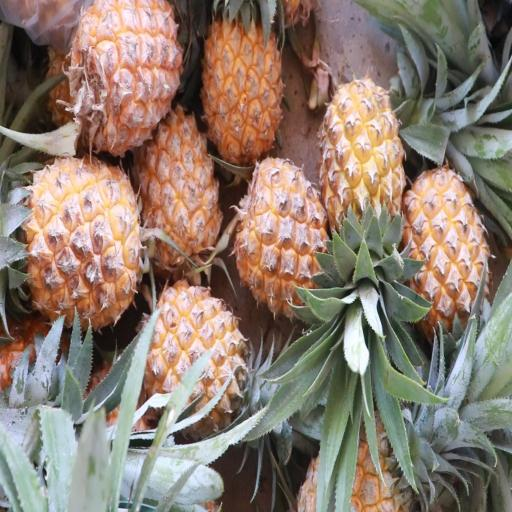Pineapple - v8 v1: (0, 150, 146, 328), (64, 0, 187, 163), (134, 276, 248, 434), (396, 170, 491, 357), (317, 77, 406, 274), (234, 156, 336, 325), (134, 102, 224, 279), (200, 0, 284, 184)
